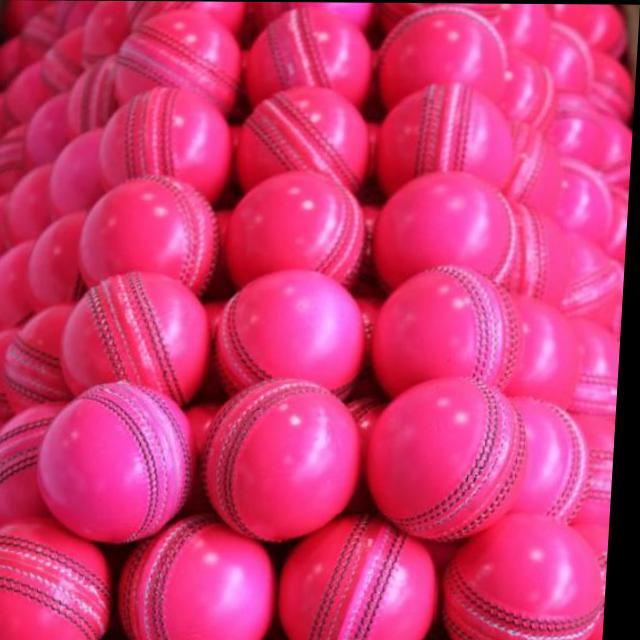cricket ball: (371, 376, 535, 540), (206, 377, 369, 541), (44, 382, 202, 544), (65, 270, 214, 405), (286, 514, 444, 640)
